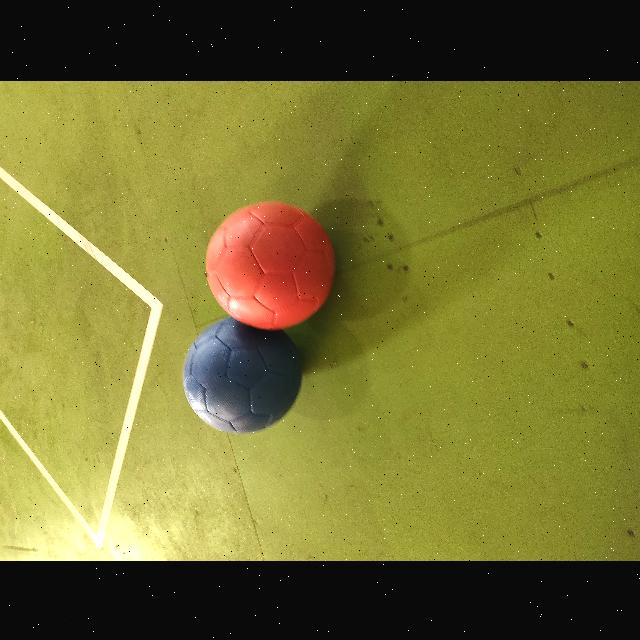B: (182, 316, 301, 433)
R: (206, 202, 335, 329)
